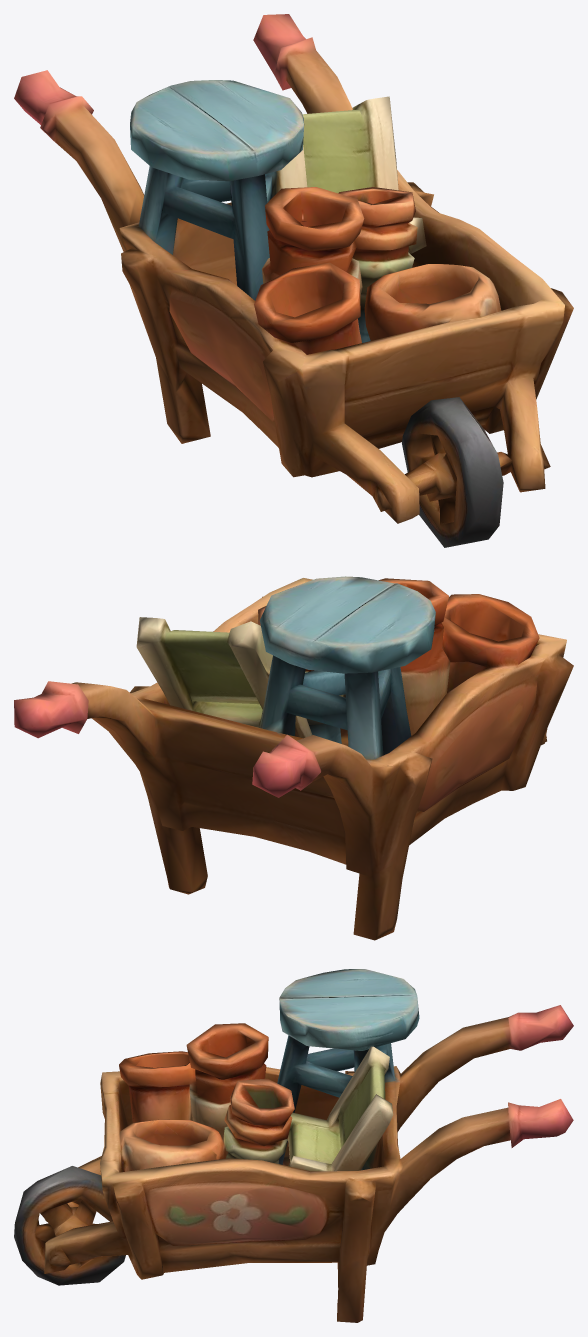
Rendered from meuble-brouette.glb.
3 renders of one model, top to bottom at view 1: azimuth 30°, elevation 25°; view 2: azimuth 150°, elevation 25°; view 3: azimuth 270°, elevation 25°, orthographic. The views are drawn at different scales.
Visible parts, largest first — view 1: tripo_node_15be35f2-724c-4096-8923-56f8acc31f22; view 2: tripo_node_15be35f2-724c-4096-8923-56f8acc31f22; view 3: tripo_node_15be35f2-724c-4096-8923-56f8acc31f22.
Boxes of the visible parts, x1=… form: tripo_node_15be35f2-724c-4096-8923-56f8acc31f22: x1=14, y1=14, x2=573, y2=547; tripo_node_15be35f2-724c-4096-8923-56f8acc31f22: x1=14, y1=576, x2=573, y2=940; tripo_node_15be35f2-724c-4096-8923-56f8acc31f22: x1=14, y1=969, x2=573, y2=1322.
Bounding box in the file's own units: 0.5083 × 0.5086 × 1.
1 material, 1 textured.
